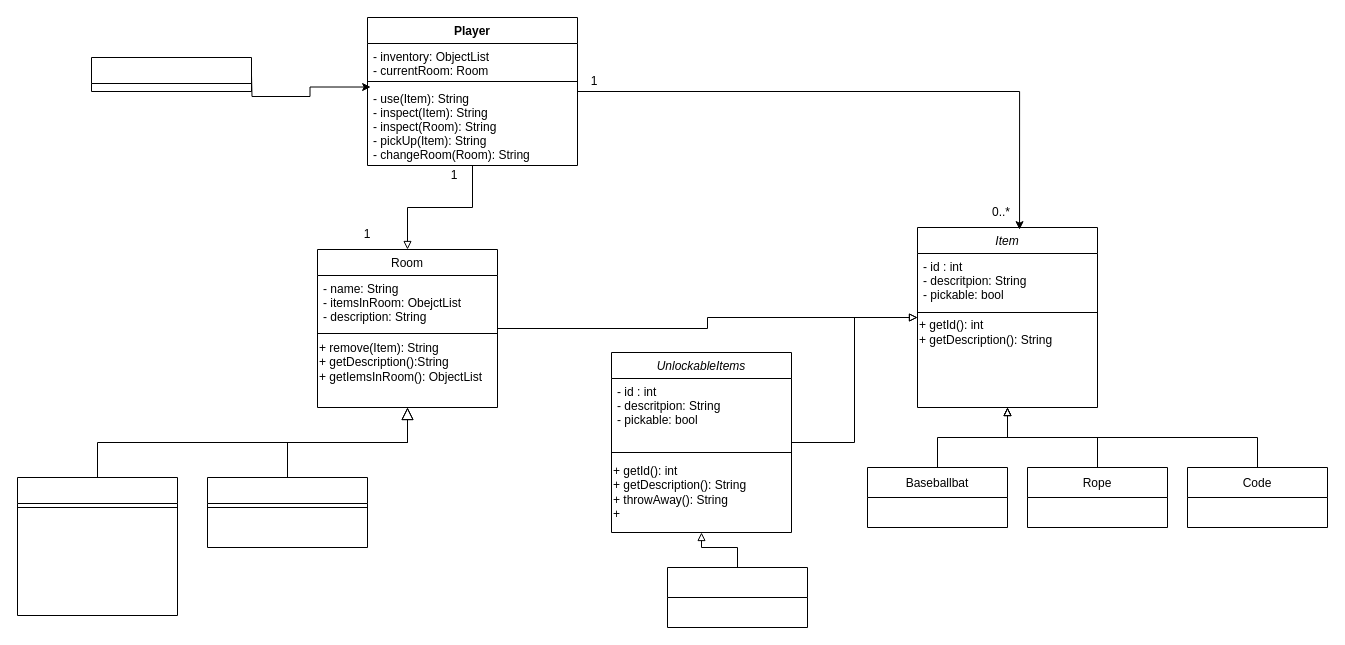
The diagram is 1345 pixels wide and 645 high, and some of its shapes have lost their labels. Here are the shapes that lost their labels. From the top down, the centre of each, then its label:
point (171, 74): Controller
point (287, 512): Basement
point (97, 546): Bathroom
point (737, 597): Container
